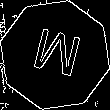M_S: (26, 25, 84, 85)
